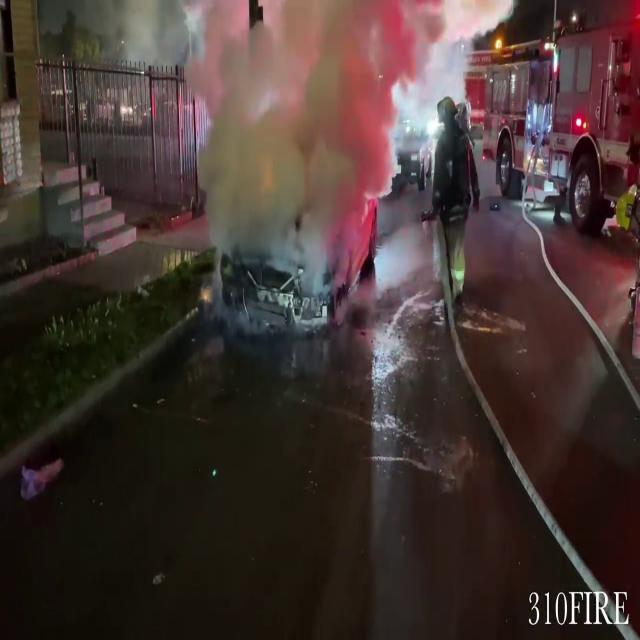Smoke: (186, 1, 430, 272)
